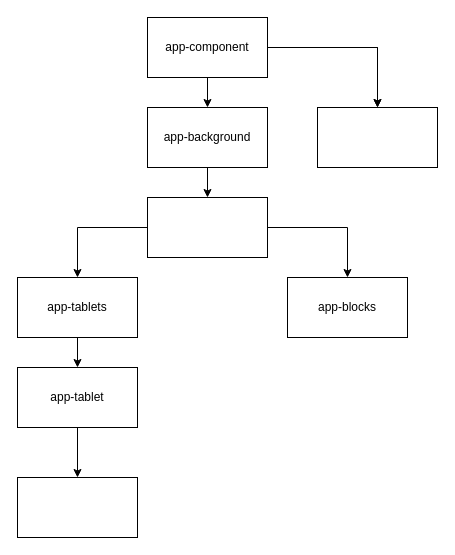
Some shapes in this 455 by 555 pixel diagram are drawn without their labels. Here are the shapes that lost their labels. From the top down, the centre of each, then its label:
(x=377, y=137): app-loadingpage
(x=207, y=227): app-vectors
(x=77, y=507): app-pageloader
